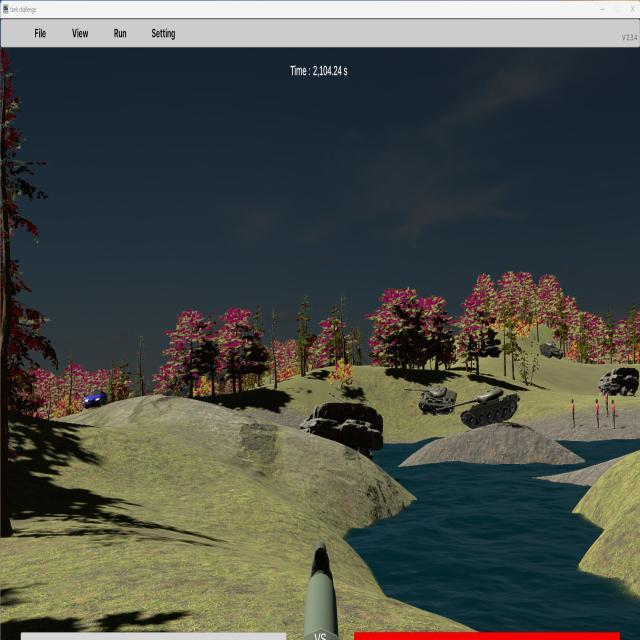Tank: (430, 387, 520, 429), (403, 384, 457, 414), (538, 339, 564, 360)
